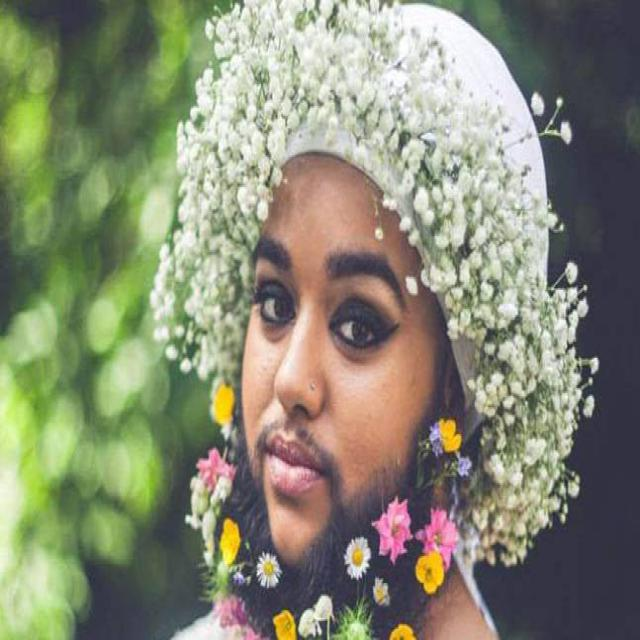mobile_phonerotation: (148, 0, 596, 637)
